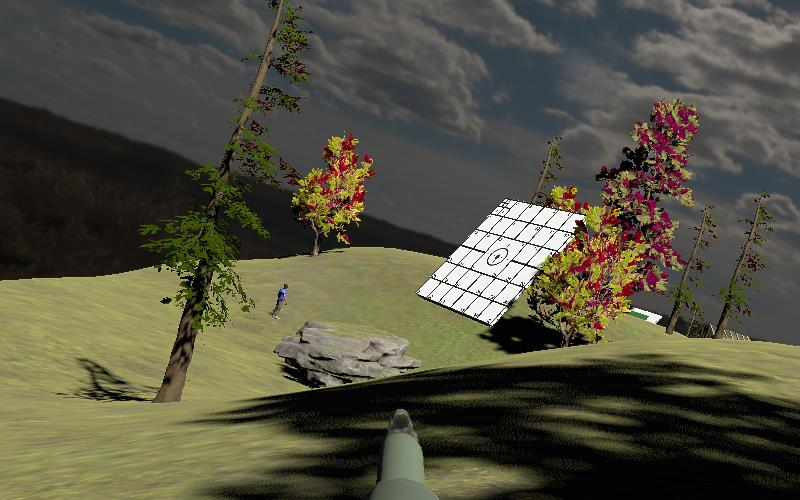Human: (269, 280, 291, 321)
